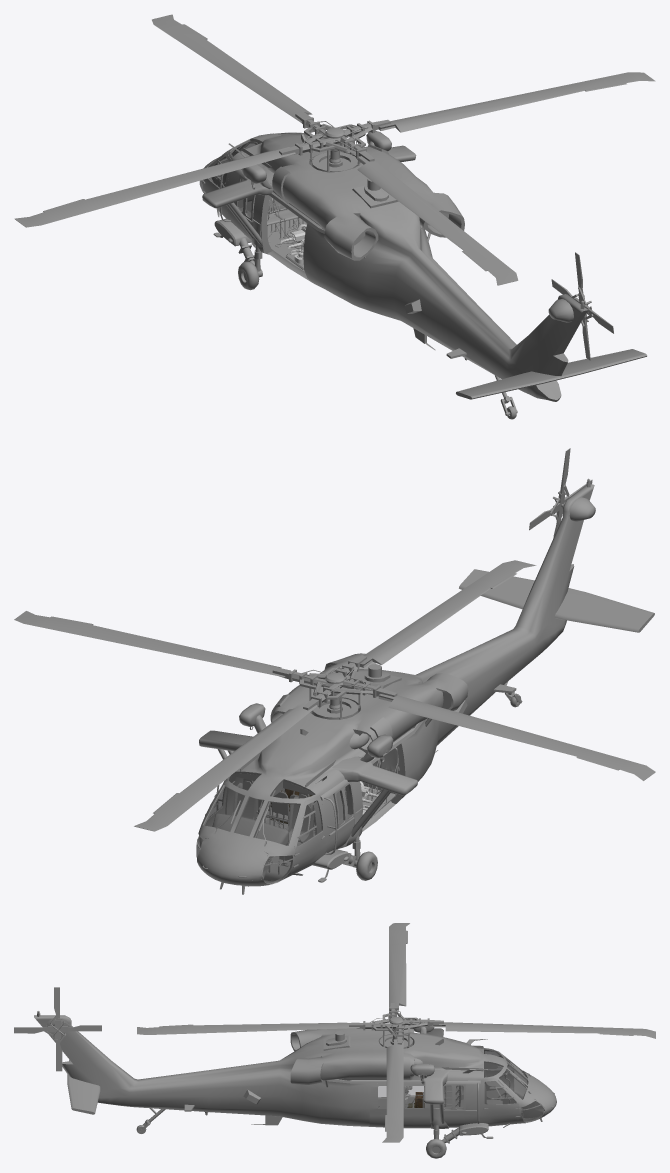
File: Heli_Test.FBX
The picture shows the model from 3 angles, top to bottom: view 1: azimuth 30°, elevation 25°; view 2: azimuth 150°, elevation 25°; view 3: azimuth 270°, elevation 25°; orthographic projection. The views are drawn at different scales.
Visible parts, largest first — view 1: UH_60; view 2: UH_60; view 3: UH_60.
Part boxes in pixels (<box>): UH_60: <box>14,14,655,419</box>; UH_60: <box>14,448,655,894</box>; UH_60: <box>14,923,655,1158</box>.
Bounding box in the file's own units: 542 × 176 × 671.
